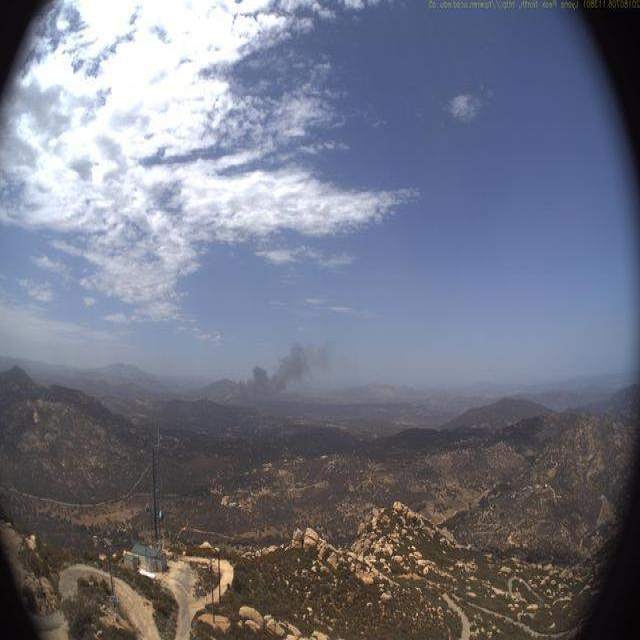smoke: (195, 338, 335, 406)
